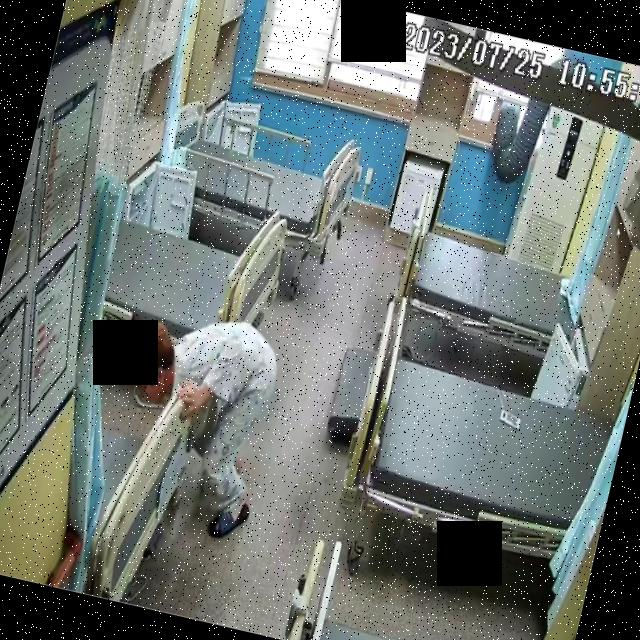bed: (354, 344, 622, 566), (90, 176, 297, 388), (155, 96, 362, 256), (390, 202, 594, 361)
danger: (96, 300, 290, 546)
patient: (98, 299, 292, 545)
